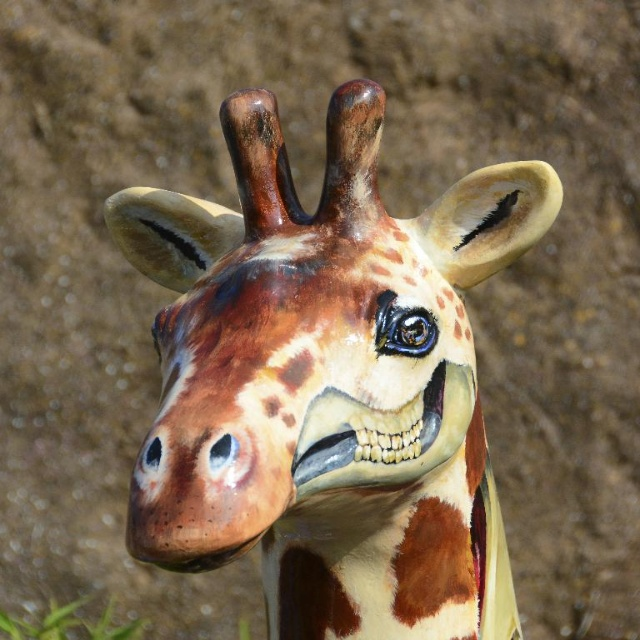Giraffe: (93, 70, 573, 640)
